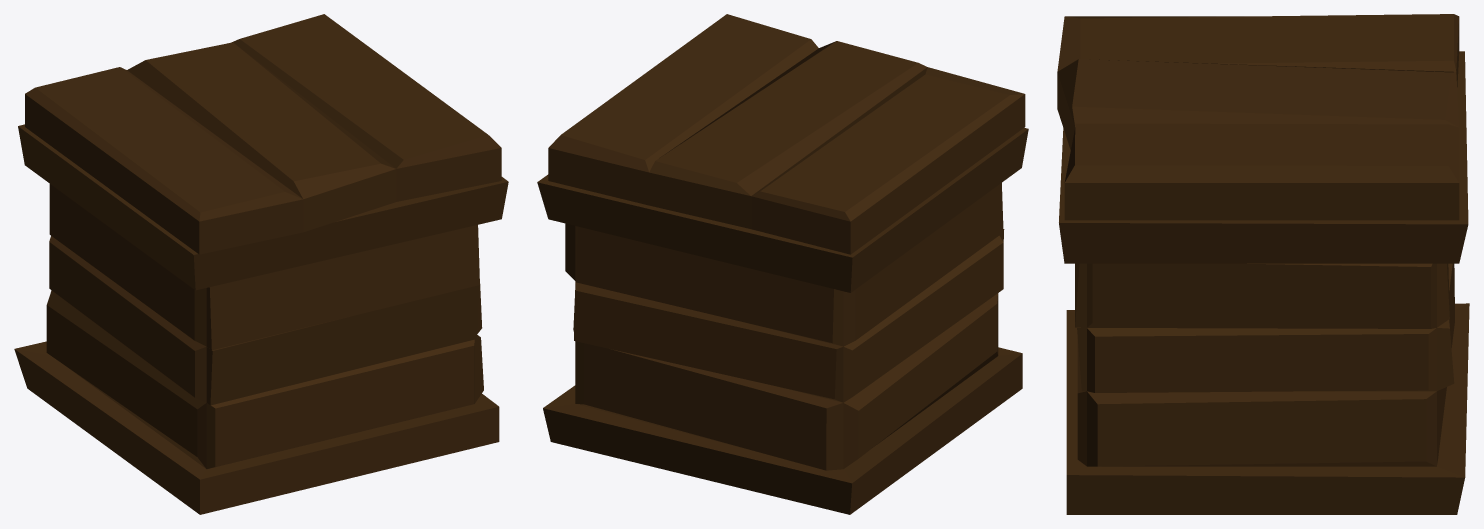
File: crate_closed.fbx
3 views of the same model, side by side, from view 1: azimuth 30°, elevation 25°; view 2: azimuth 150°, elevation 25°; view 3: azimuth 270°, elevation 25° (orthographic). The views are drawn at different scales.
Parts seen in each view (by area): view 1: crate_closed; view 2: crate_closed; view 3: crate_closed.
Part boxes in pixels (x1,y1,x2,y2): crate_closed: (14,14,508,514); crate_closed: (537,14,1028,514); crate_closed: (1057,14,1469,514).
Bounding box in the file's own units: 50.39 × 46.71 × 50.44.
